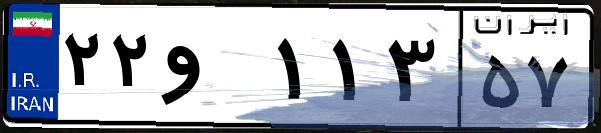1: (270, 28, 330, 110), (330, 28, 385, 110)
2: (57, 26, 110, 100), (110, 28, 158, 98)
3: (385, 28, 445, 110)
5: (475, 38, 525, 113)
7: (525, 38, 570, 115)
و: (158, 20, 270, 120)
